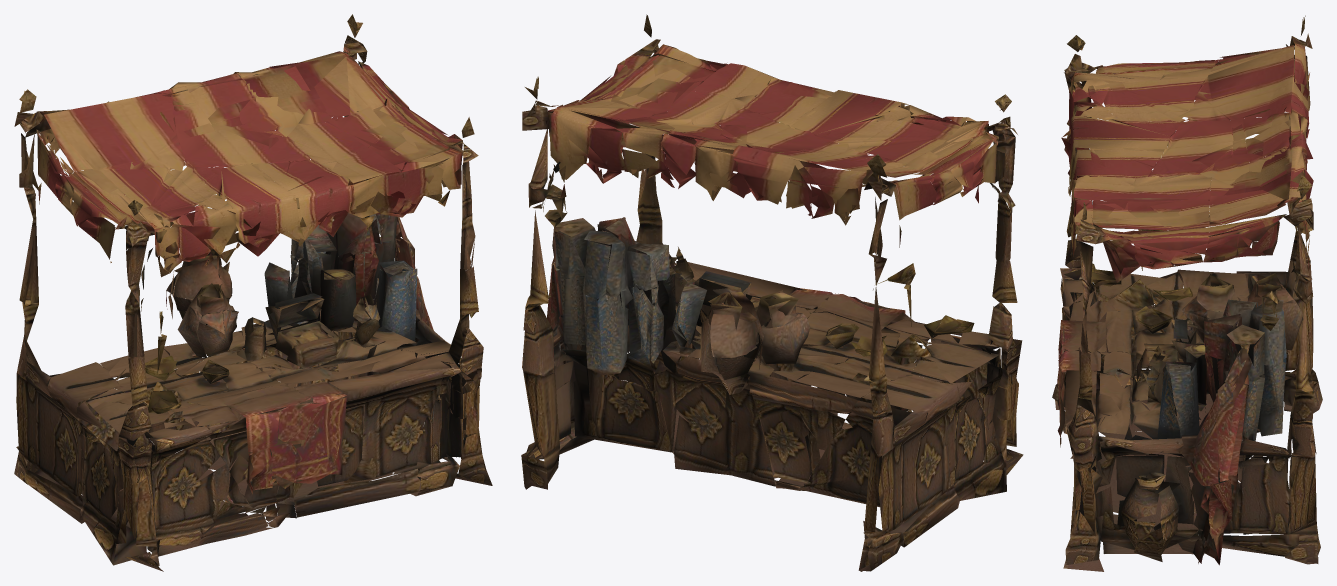
Rendered from MerchantStall.fbx.
3 views of the same model, side by side, from view 1: azimuth 30°, elevation 25°; view 2: azimuth 150°, elevation 25°; view 3: azimuth 270°, elevation 25° (orthographic). The views are drawn at different scales.
Visible parts, largest first — view 1: MerchantStall_Body; view 2: MerchantStall_Body; view 3: MerchantStall_Body.
Part boxes in pixels (x1,y1,x2,y2): MerchantStall_Body: (14,14,492,571); MerchantStall_Body: (521,14,1023,571); MerchantStall_Body: (1052,15,1322,571).
Bounding box in the file's own units: 1.02 × 0.9928 × 0.6164.
1 material, 1 textured.
